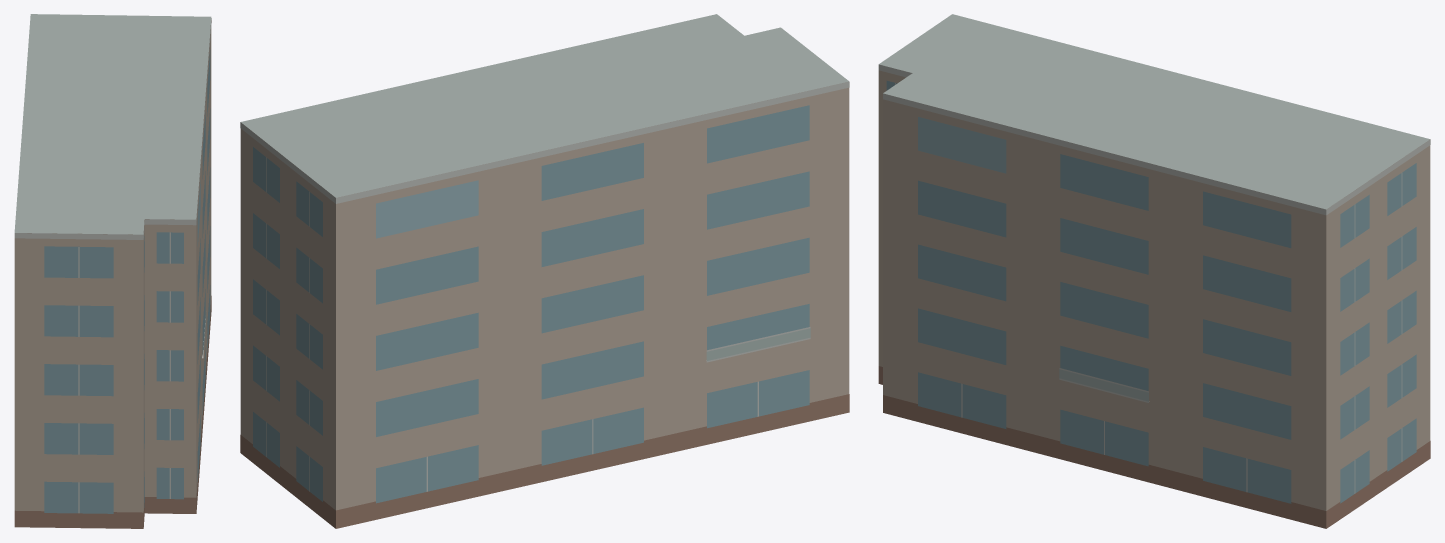
The model's file is survey-upis-32654279.glb.
3 views of the same model, side by side, from view 1: azimuth 30°, elevation 25°; view 2: azimuth 150°, elevation 25°; view 3: azimuth 270°, elevation 25° (orthographic). The views are drawn at different scales.
Visible parts, largest first — view 1: survey-upis-32654279.tmp; view 2: survey-upis-32654279.tmp; view 3: survey-upis-32654279.tmp.
Part boxes in pixels (x1,y1,x2,y2): survey-upis-32654279.tmp: [14, 14, 211, 528]; survey-upis-32654279.tmp: [240, 14, 849, 528]; survey-upis-32654279.tmp: [878, 14, 1430, 528].
Bounding box in the file's own units: 17.31 × 13.18 × 20.65.
